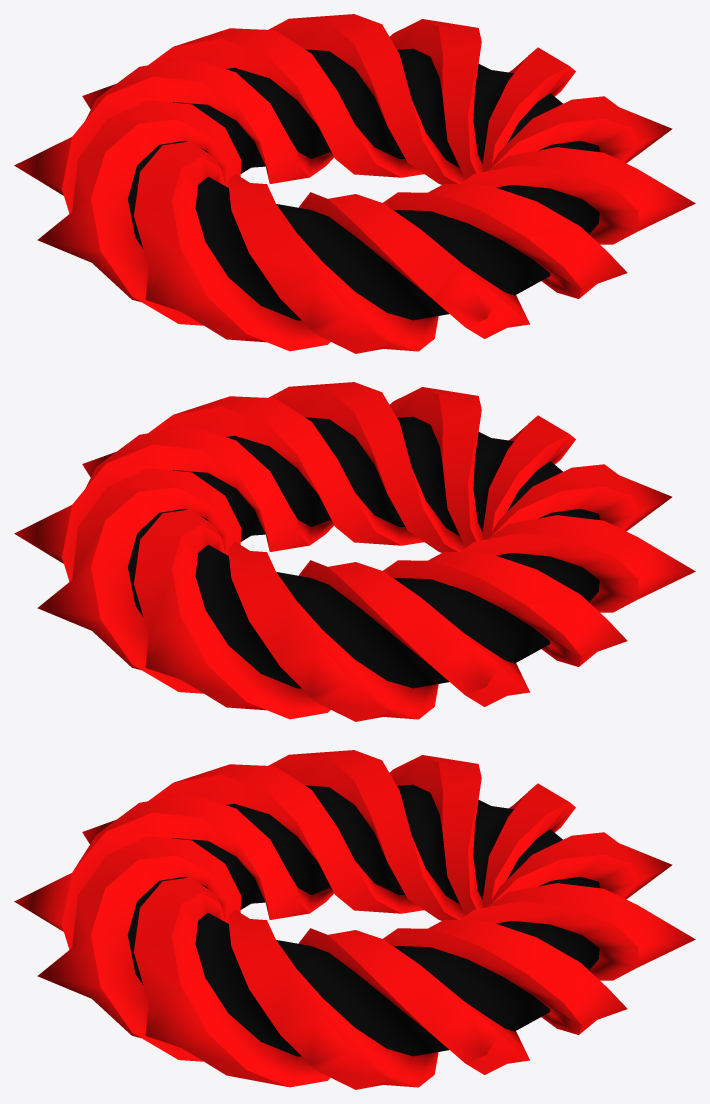
The model's file is thorn_spiral_export.fbx.
The picture shows the model from 3 angles, top to bottom: view 1: azimuth 30°, elevation 25°; view 2: azimuth 150°, elevation 25°; view 3: azimuth 270°, elevation 25°; orthographic projection.
Visible parts, largest first — view 1: Torus; view 2: Torus; view 3: Torus.
Boxes of the visible parts, x1,y1,x2,y2 form: Torus: [14, 14, 695, 353]; Torus: [14, 382, 695, 721]; Torus: [14, 750, 695, 1089].
Size of the model in its own units: 1142 by 270 by 1142.
